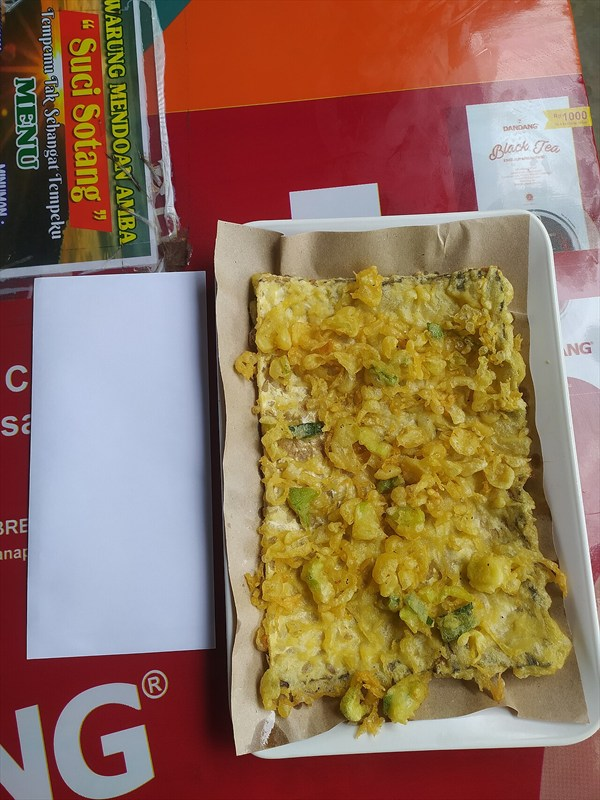Tempe Goreng: (92, 145, 527, 761)
